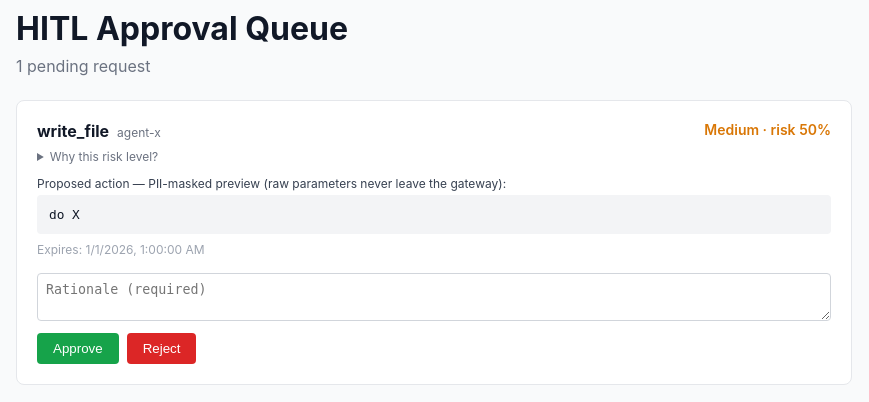
Test: submits an APPROVED decision and removes the resolved card
The width and height of the screenshot is (869, 402).
Check: the text "write_file" is shown, box [37,121,109,141]
In the text box with placeholder "Rationale (required)": (434, 297) [37,273,831,321], type "approved by operator"
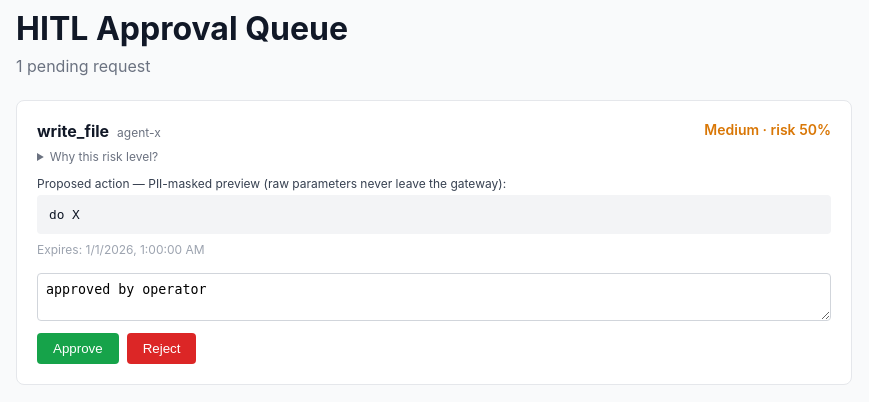
Click the button "Approve": (78, 348) [37,333,119,364]
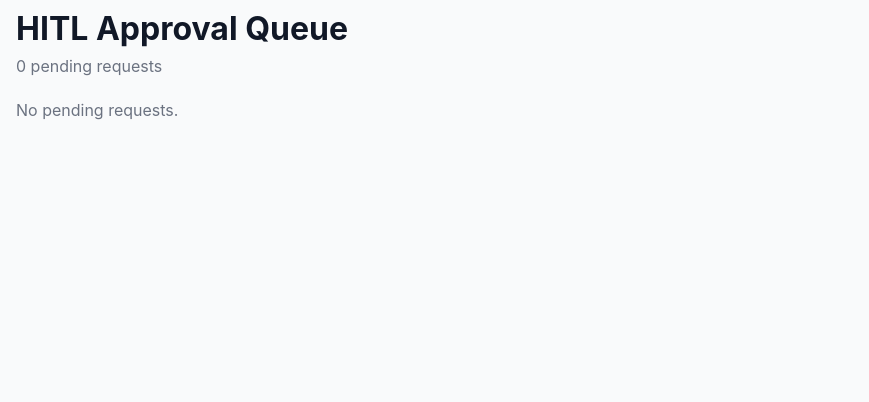
Check: the text "write_file" is gone
